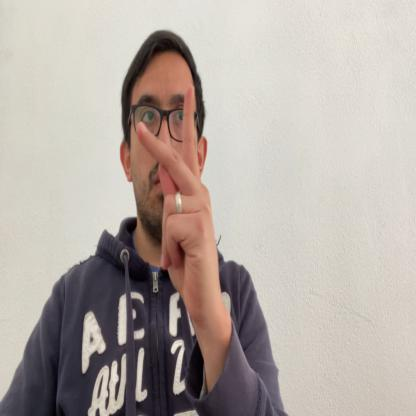P: (136, 84, 221, 333)
